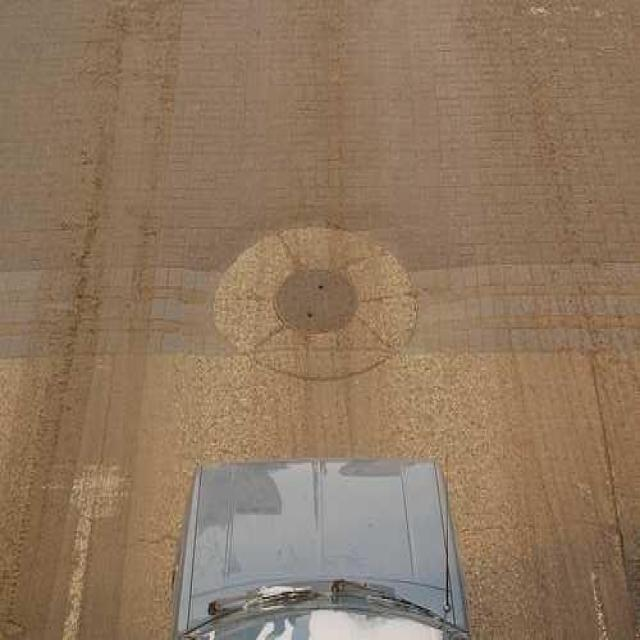manhole: (276, 271, 358, 331)
